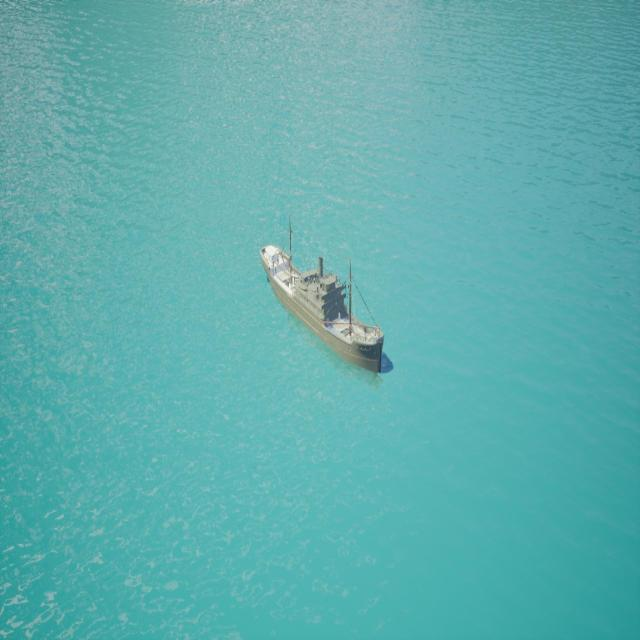fishing ship: (259, 243, 388, 377)
